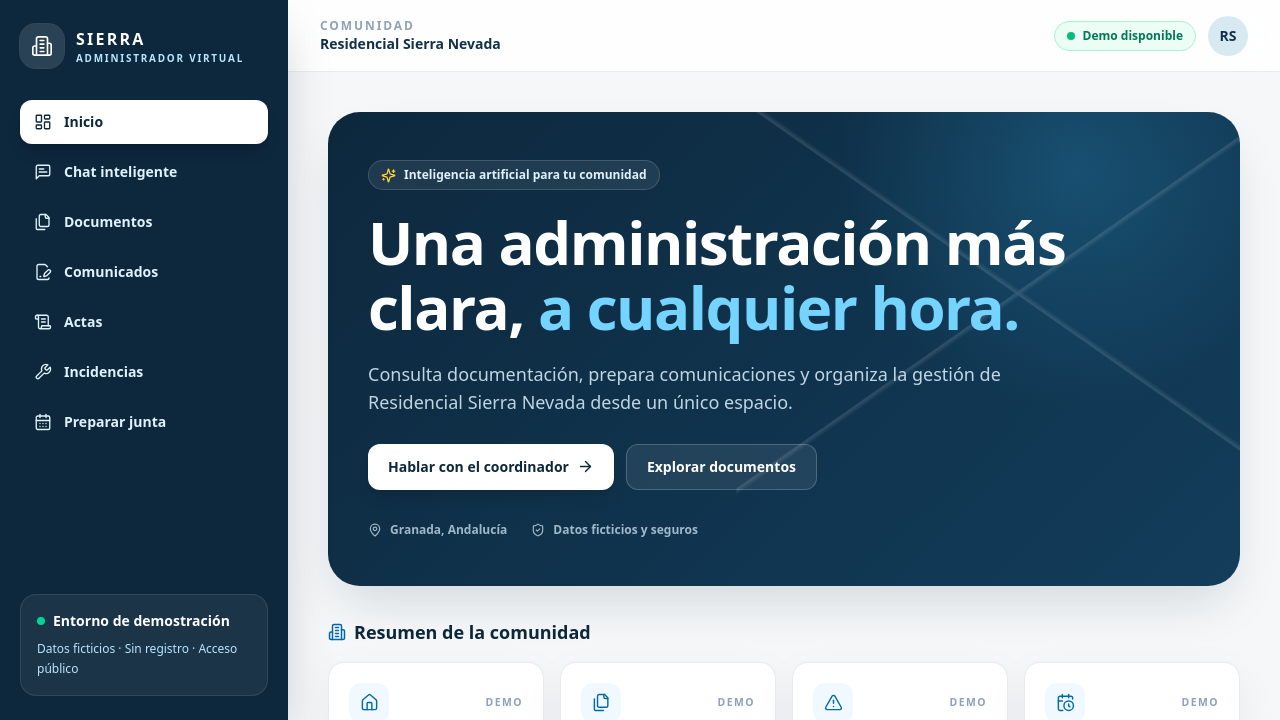
App › navega a Incidencias desde la navegación principal
Click the link "Incidencias": click(89, 372) top-left (34, 362), bottom-right (143, 381)
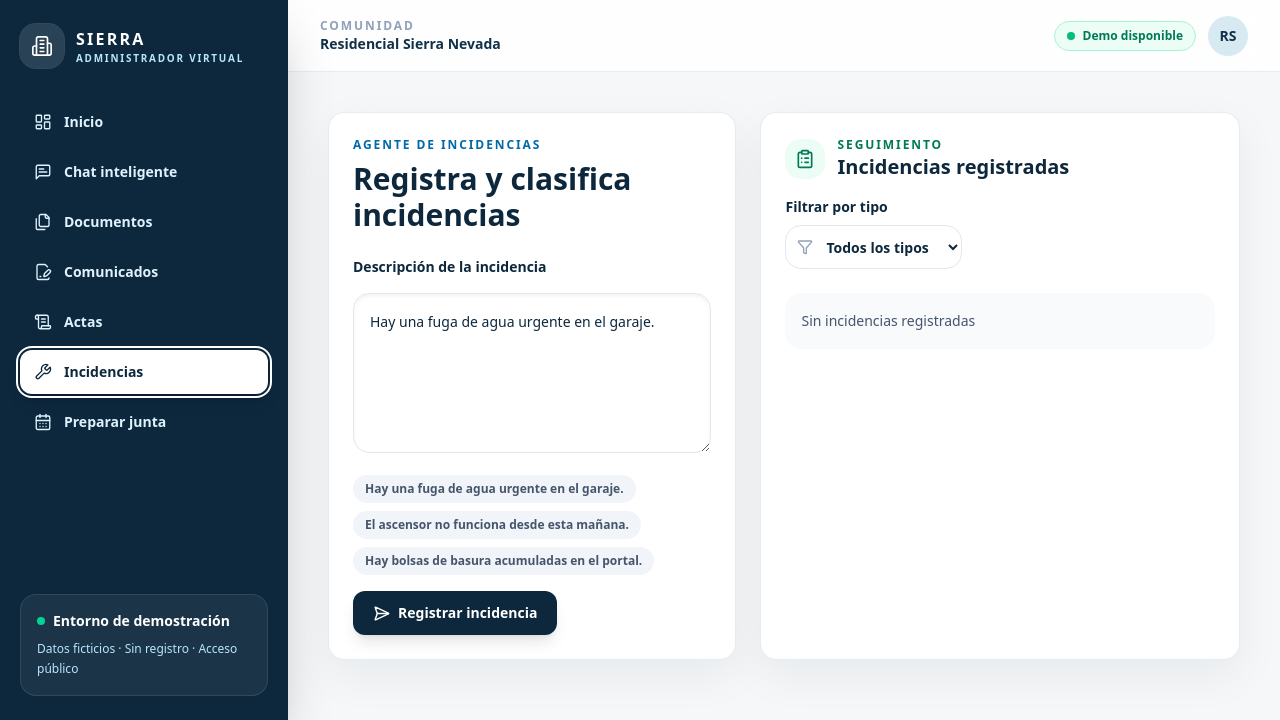
Expected: the heading "Registra y clasifica incidencias" is shown, top-left (353, 158), bottom-right (632, 235)
